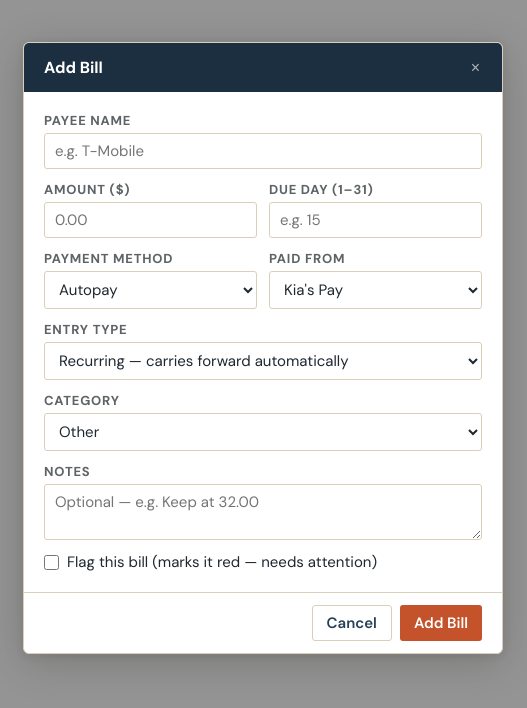
BillForm › validation › shows error when name is empty on submit
The image size is (527, 708).
Click the button "Add Bill". click: (441, 623)
box: [400,605,482,641]
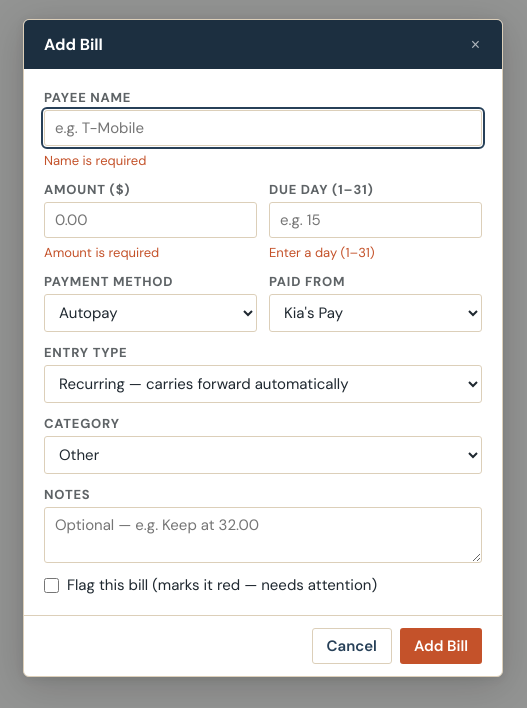
Expected: the text "Name is required" is shown, [44,152,146,169]
